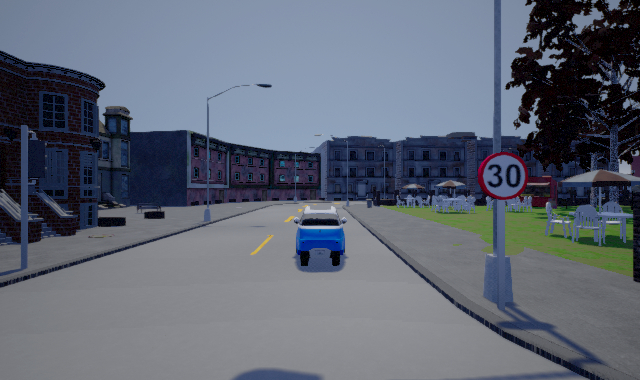traffic_sign: (477, 152, 528, 200)
vehicle: (295, 202, 346, 266)
